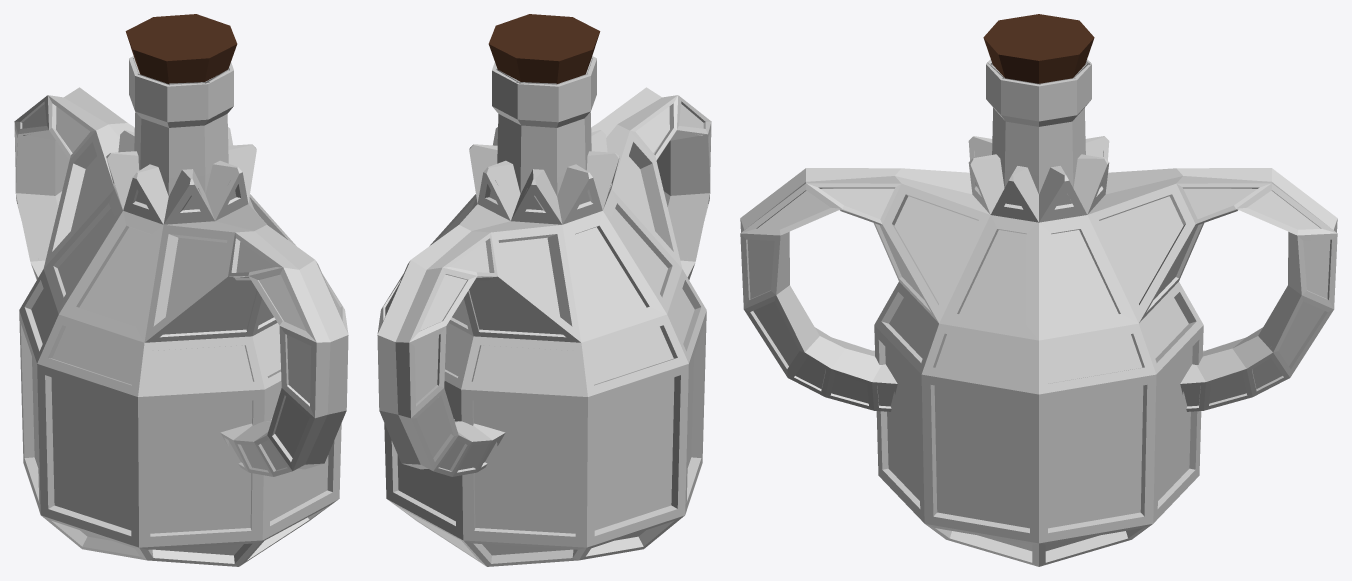
Rendered from Potions.fbx.
The picture shows the model from 3 angles, left to right: view 1: azimuth 30°, elevation 25°; view 2: azimuth 150°, elevation 25°; view 3: azimuth 270°, elevation 25°; orthographic projection.
Parts seen in each view (by area): view 1: PotionBottle.003, PotionHat, PotionBottle.001, PotionBottle; view 2: PotionBottle.003, PotionHat, PotionBottle.001, PotionBottle; view 3: PotionBottle.003, PotionHat, PotionBottle.001, PotionBottle.
Part boxes in pixels (x1,y1,x2,y2): PotionBottle.003: [14, 57, 348, 566]; PotionHat: [125, 14, 237, 83]; PotionBottle.001: [134, 112, 228, 196]; PotionBottle: [129, 56, 233, 127]; PotionBottle.003: [377, 57, 711, 566]; PotionHat: [488, 14, 600, 83]; PotionBottle.001: [497, 112, 591, 196]; PotionBottle: [492, 56, 596, 127]; PotionBottle.003: [740, 61, 1337, 566]; PotionHat: [983, 14, 1094, 83]; PotionBottle.001: [992, 108, 1085, 193]; PotionBottle: [986, 59, 1091, 126].
Size of the model in its own units: 49.36 by 84.44 by 89.5.
